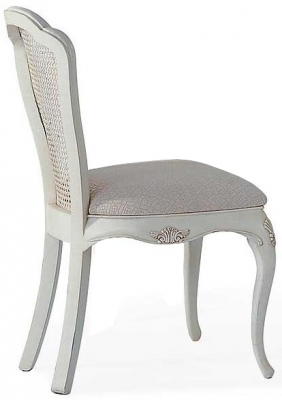chairs: (2, 4, 282, 397)
